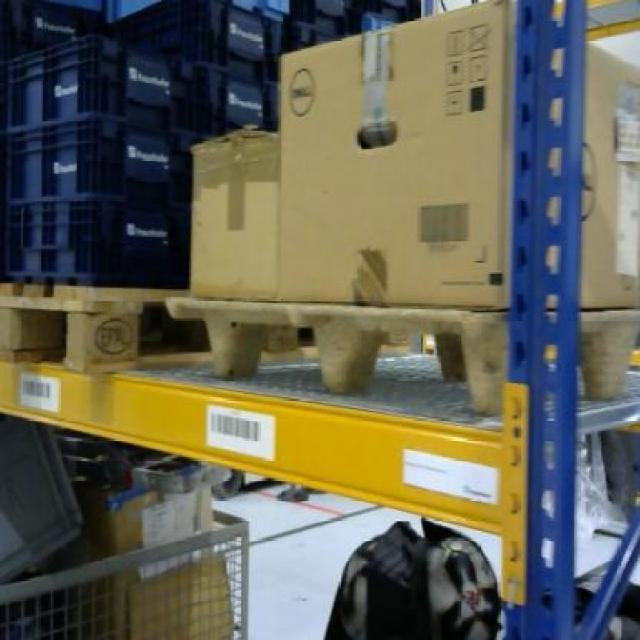box: (278, 4, 638, 310), (186, 128, 280, 298)
